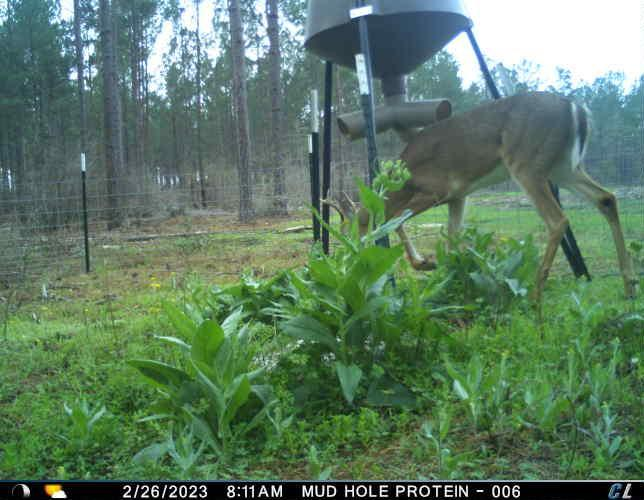Deer: (314, 92, 639, 317)
